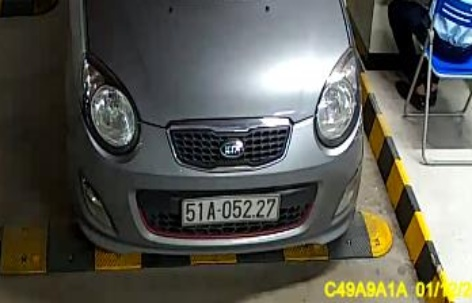plate: (177, 189, 288, 228)
